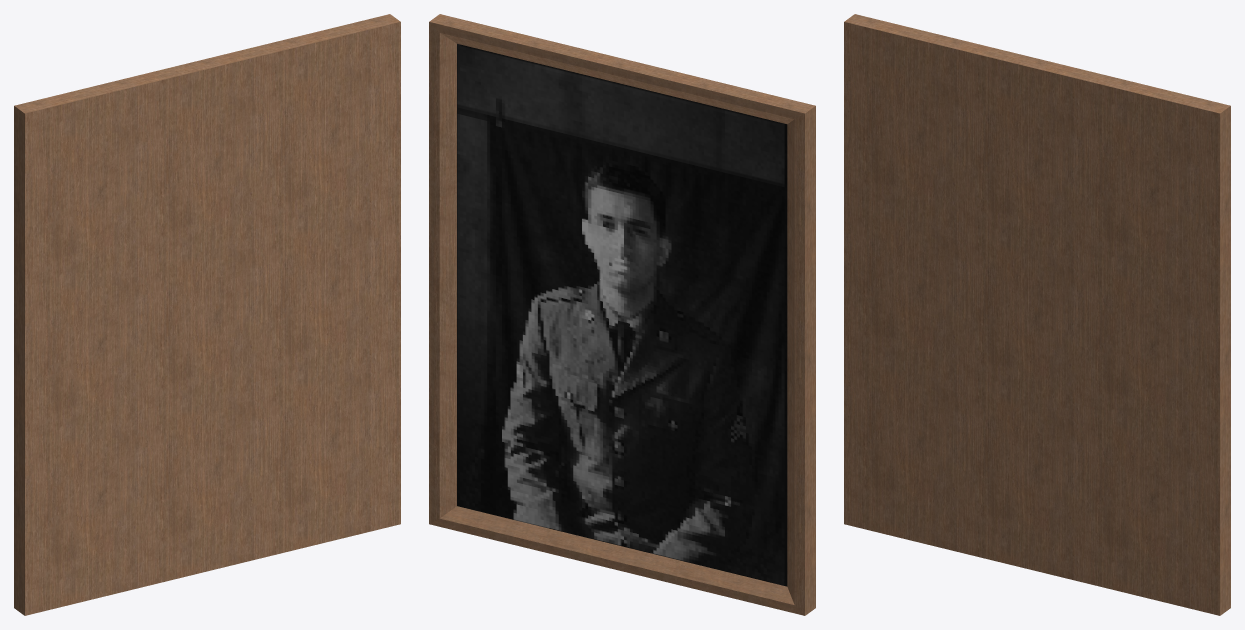
Rendered from patroclo_portrait.glb.
3 renders of one model, left to right at view 1: azimuth 30°, elevation 25°; view 2: azimuth 150°, elevation 25°; view 3: azimuth 330°, elevation 25°, orthographic.
Visible parts, largest first — view 1: Patroclo; view 2: Patroclo; view 3: Patroclo.
Boxes of the visible parts, x1=… form: Patroclo: x1=14, y1=14, x2=400, y2=615; Patroclo: x1=429, y1=14, x2=815, y2=615; Patroclo: x1=844, y1=14, x2=1230, y2=615.
Size of the model in its own units: 1.02 by 1.3 by 0.0505.
2 materials, 2 textured.
